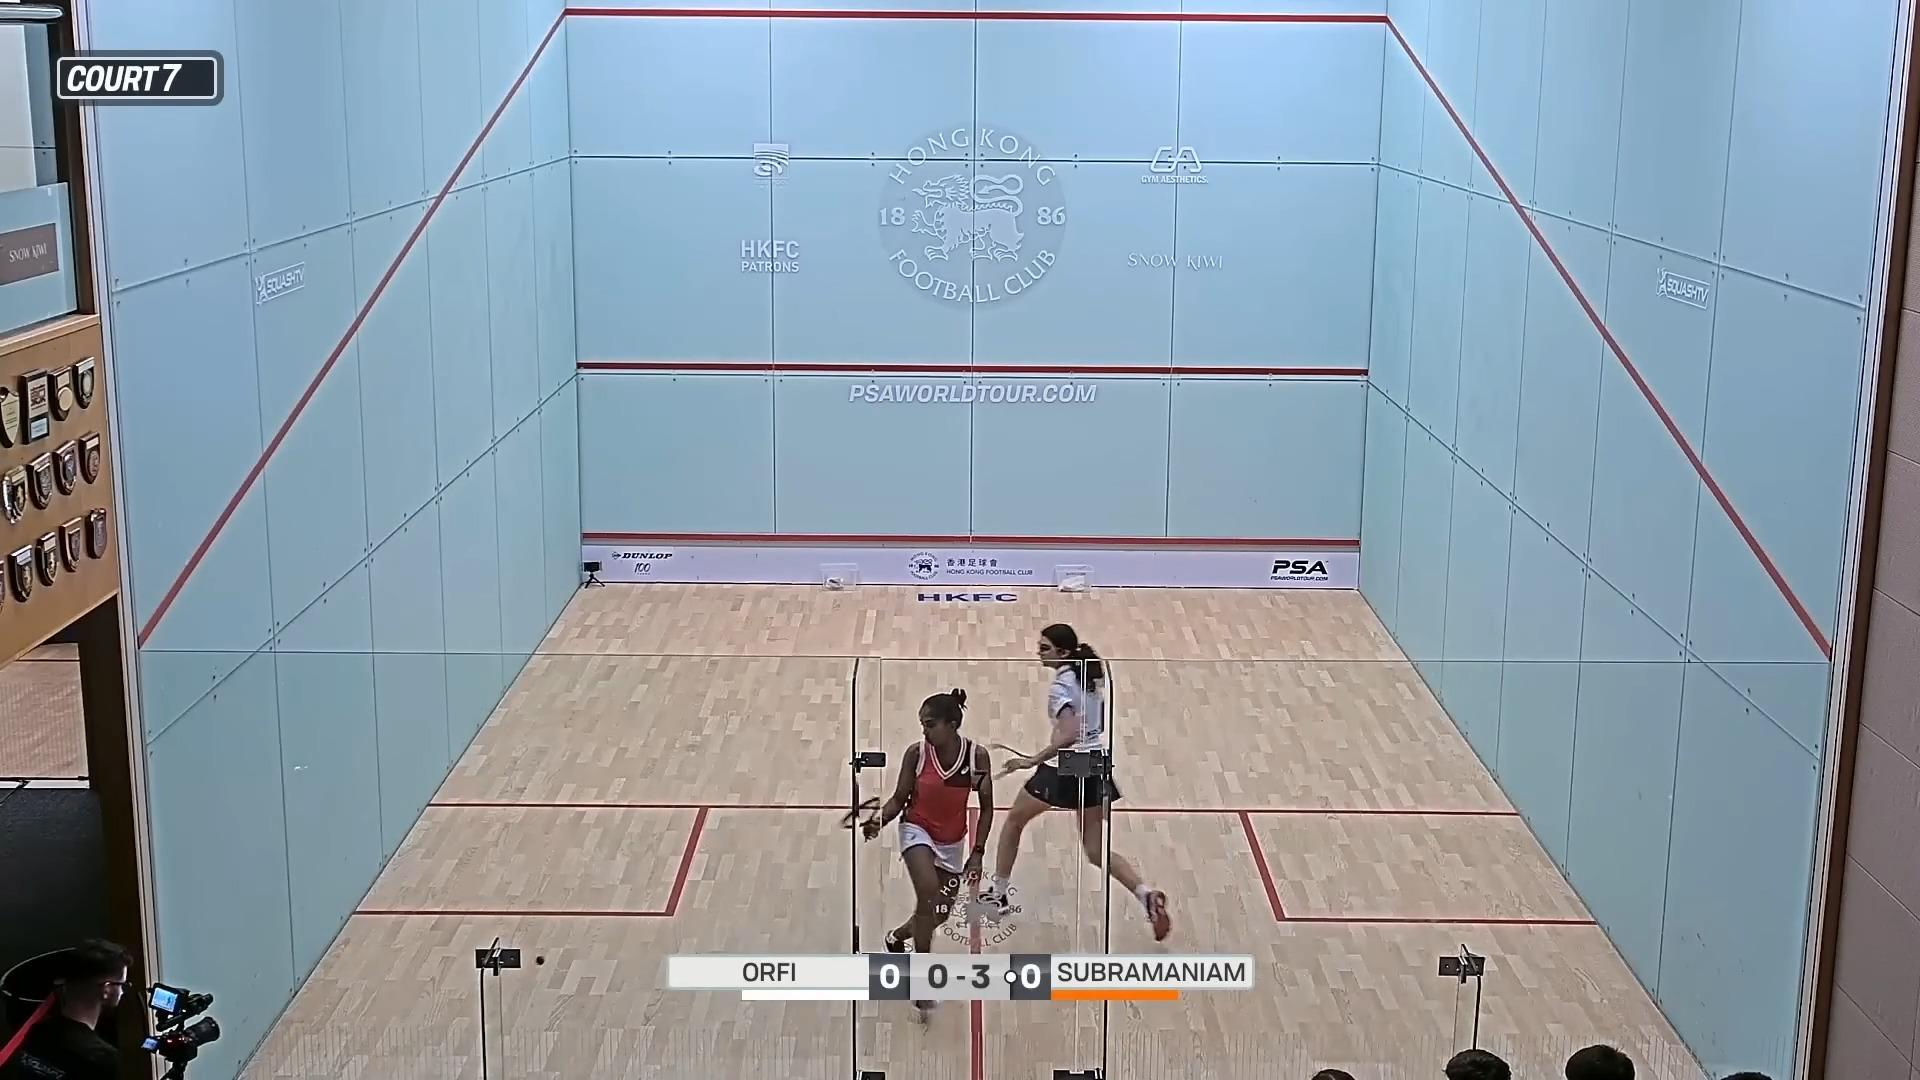Squash-Ball: (527, 942, 556, 986)
